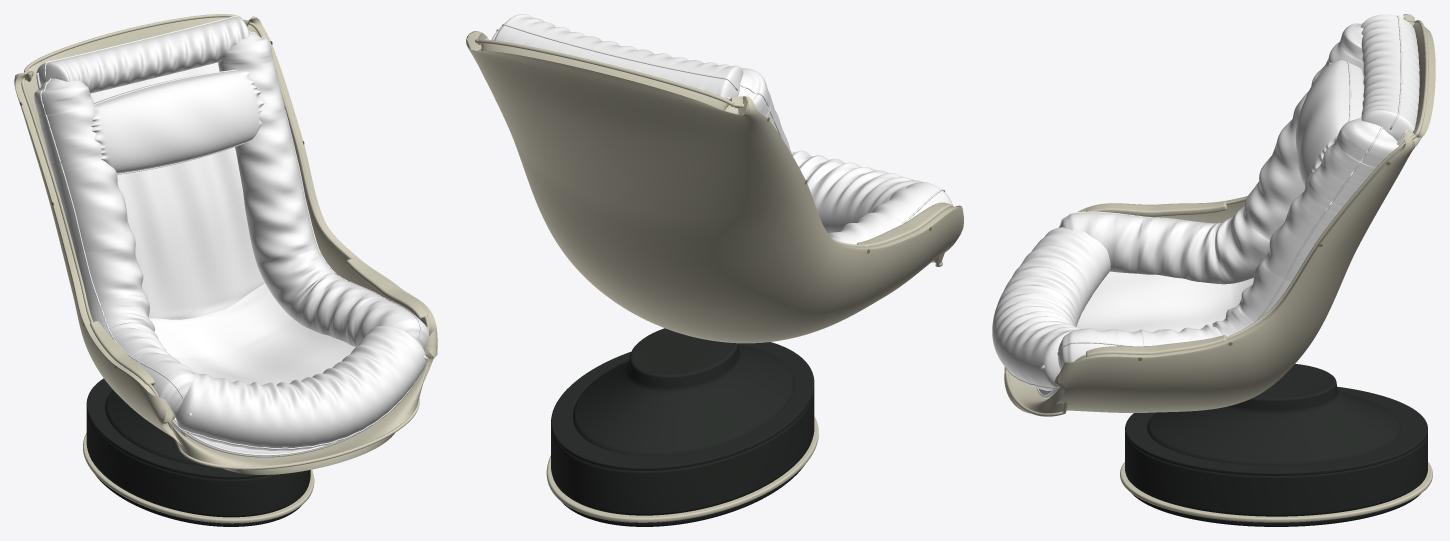
The model's file is chair.glb.
3 views of the same model, side by side, from view 1: azimuth 30°, elevation 25°; view 2: azimuth 150°, elevation 25°; view 3: azimuth 270°, elevation 25° (orthographic). The views are drawn at different scales.
Visible parts, largest first — view 1: Back panel | full padded back behind loose pillow, Right | gathered continuous bolster, Left | gathered continuous bolster, Seat | inflated rounded front bolster, Shell | continuous seat-back bucket | nominal 22 mm, Headrest | loose rectangular pillow, Seat | sunken inner cushion, Base | dark low oval plinth, Back | padded top surround, Shell | small perimeter radius, Base | dark upper transition, Base | recessed tapered mount (+5 smaller); view 2: Shell | continuous seat-back bucket | nominal 22 mm, Base | recessed tapered mount, Base | dark low oval plinth, Base | dark upper transition, Back | padded top surround, Seat | inflated rounded front bolster, Left | gathered continuous bolster, Base | narrow aged ivory lower rim, Shell | small perimeter radius, Left | flat ivory arm ledge, Base | recessed rubber sole; view 3: Shell | continuous seat-back bucket | nominal 22 mm, Base | recessed tapered mount, Left | gathered continuous bolster, Right | gathered continuous bolster, Base | dark low oval plinth, Seat | inflated rounded front bolster, Seat | sunken inner cushion, Back | padded top surround, Base | dark upper transition, Headrest | loose rectangular pillow, Base | narrow aged ivory lower rim, Shell | small perimeter radius (+4 smaller).
Part boxes in pixels (x1,y1,x2,y2): Back panel | full padded back behind loose pillow: (36, 62, 264, 319); Right | gathered continuous bolster: (218, 31, 429, 359); Left | gathered continuous bolster: (34, 78, 196, 417); Seat | inflated rounded front bolster: (175, 325, 426, 450); Shell | continuous seat-back bucket | nominal 22 mm: (14, 16, 437, 474); Headrest | loose rectangular pillow: (91, 70, 264, 173); Seat | sunken inner cushion: (149, 283, 414, 457); Base | dark low oval plinth: (86, 409, 310, 517); Back | padded top surround: (36, 16, 249, 93); Shell | small perimeter radius: (21, 14, 429, 469); Base | dark upper transition: (86, 378, 270, 479); Base | recessed tapered mount: (105, 390, 217, 467); Shell | continuous seat-back bucket | nominal 22 mm: (466, 31, 963, 343); Base | recessed tapered mount: (573, 328, 794, 455); Base | dark low oval plinth: (551, 389, 814, 515); Base | dark upper transition: (551, 342, 814, 470); Back | padded top surround: (494, 14, 743, 99); Seat | inflated rounded front bolster: (791, 150, 922, 233); Left | gathered continuous bolster: (738, 68, 952, 244); Base | narrow aged ivory lower rim: (546, 416, 818, 522); Shell | small perimeter radius: (475, 39, 953, 266); Left | flat ivory arm ledge: (857, 202, 952, 247); Base | recessed rubber sole: (561, 465, 804, 526); Shell | continuous seat-back bucket | nominal 22 mm: (1004, 14, 1435, 413); Base | recessed tapered mount: (1147, 364, 1401, 465); Left | gathered continuous bolster: (1059, 23, 1364, 284); Right | gathered continuous bolster: (1039, 117, 1398, 369); Base | dark low oval plinth: (1125, 432, 1427, 516); Seat | inflated rounded front bolster: (992, 227, 1110, 390); Seat | sunken inner cushion: (1038, 271, 1253, 398); Back | padded top surround: (1361, 14, 1419, 141); Base | dark upper transition: (1125, 386, 1427, 475); Headrest | loose rectangular pillow: (1295, 60, 1364, 186); Base | narrow aged ivory lower rim: (1120, 462, 1432, 522); Shell | small perimeter radius: (1004, 20, 1428, 416).
Size of the model in its own units: 0.9 by 1.15 by 1.1.
